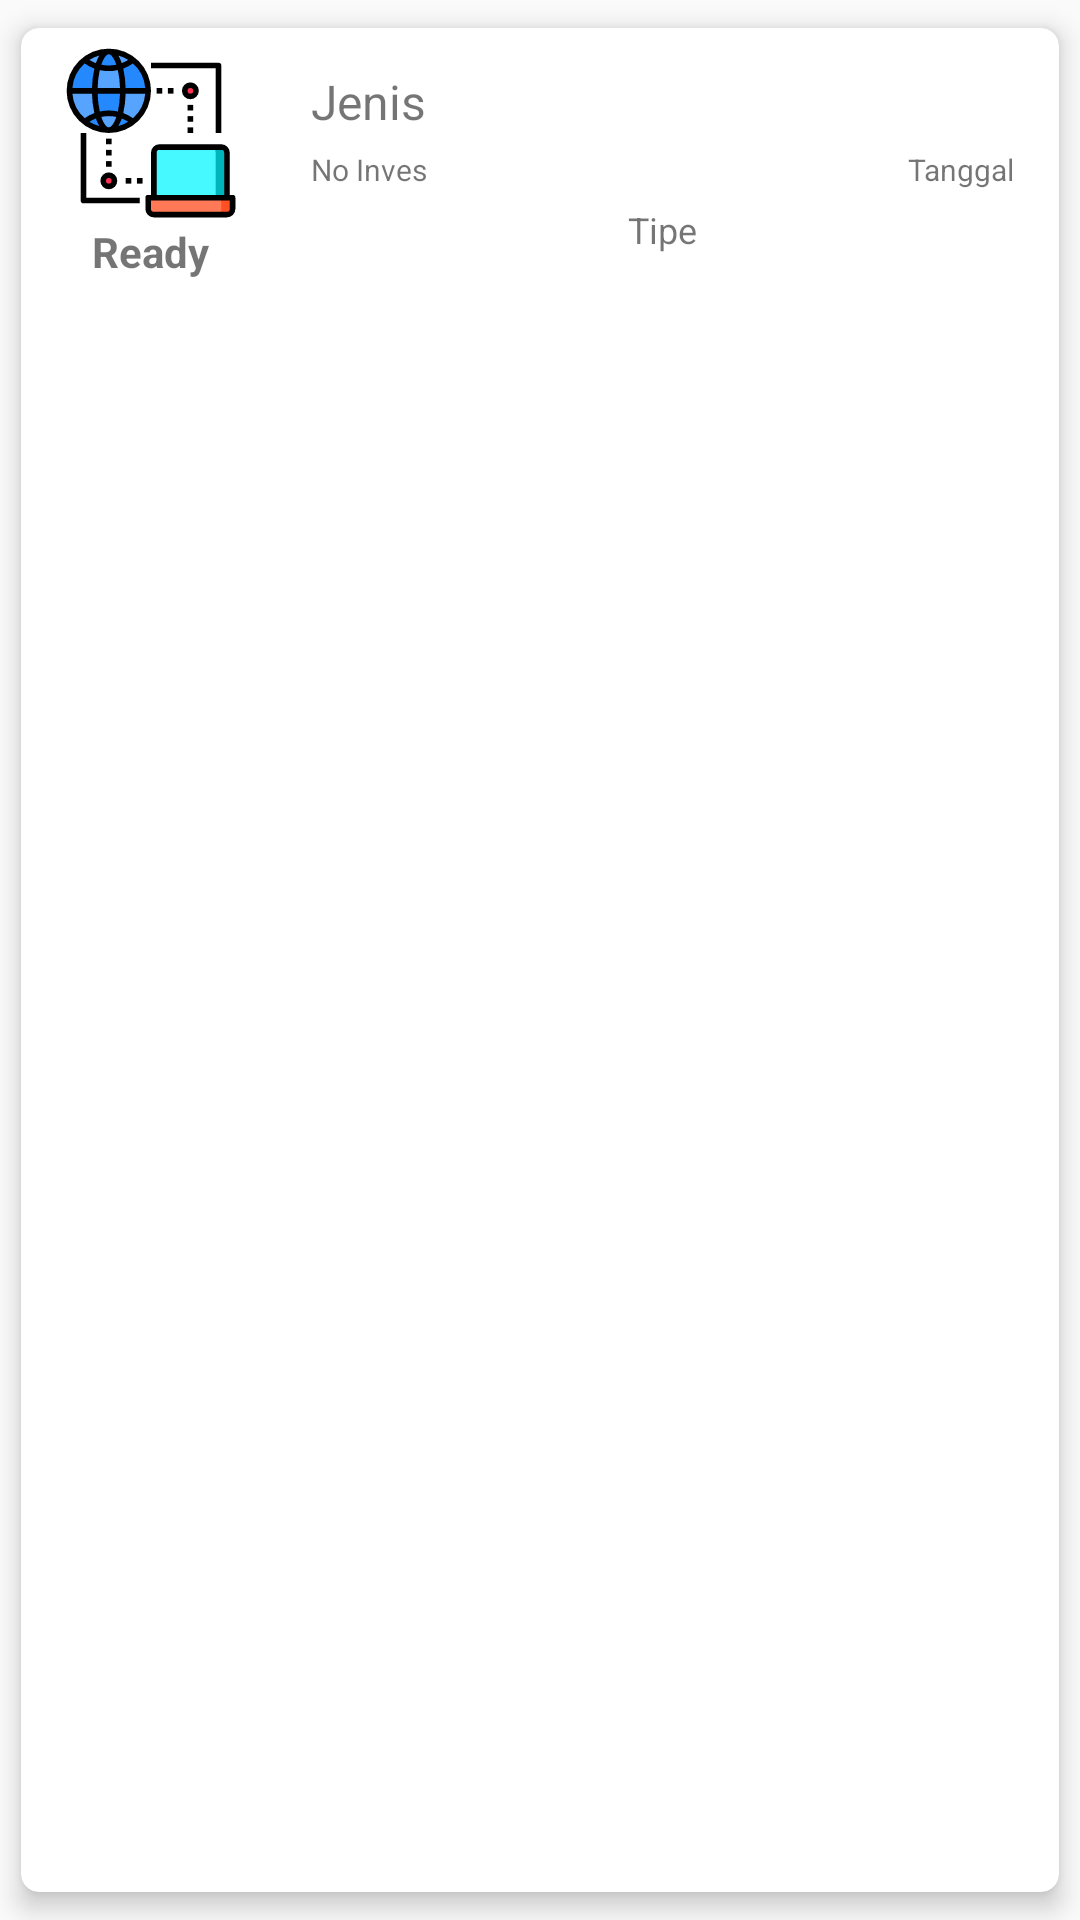

Icons on this 1080px x 1920px Android screen, each with the point to tap as (x,y):
internet: (151,133)
